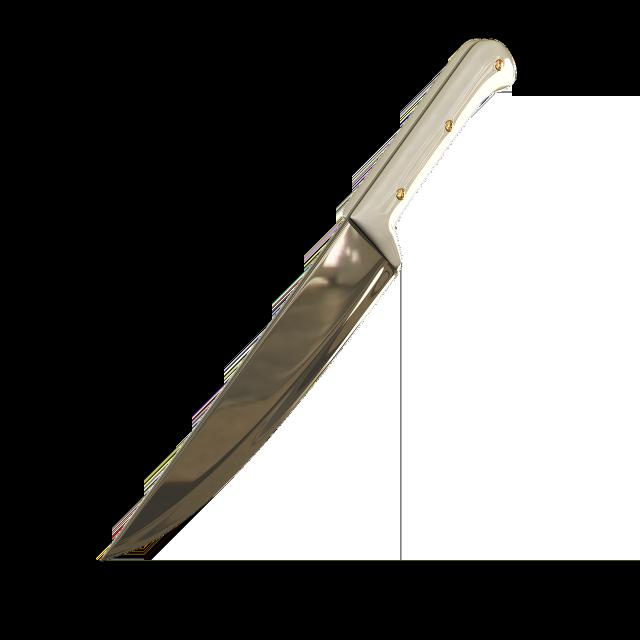Knife: (98, 40, 516, 560)
